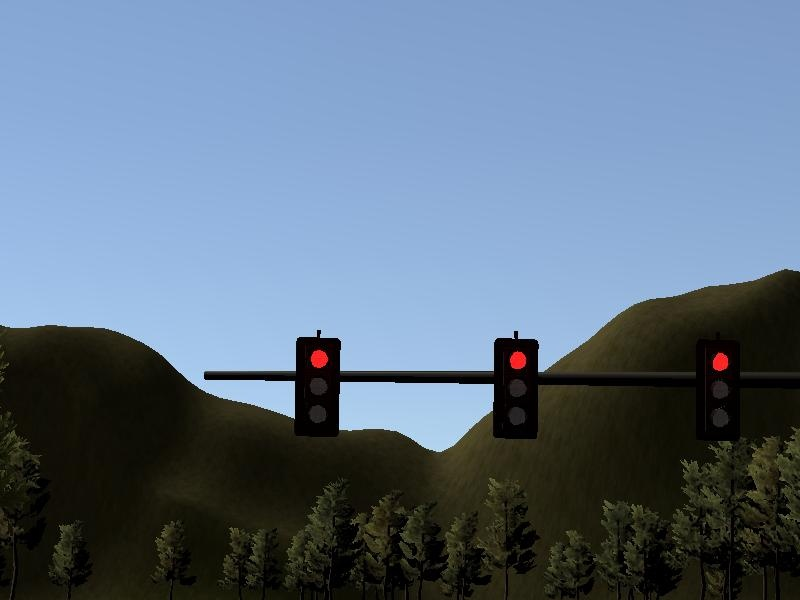red: (493, 337, 539, 442), (697, 336, 743, 441), (296, 338, 340, 437)
